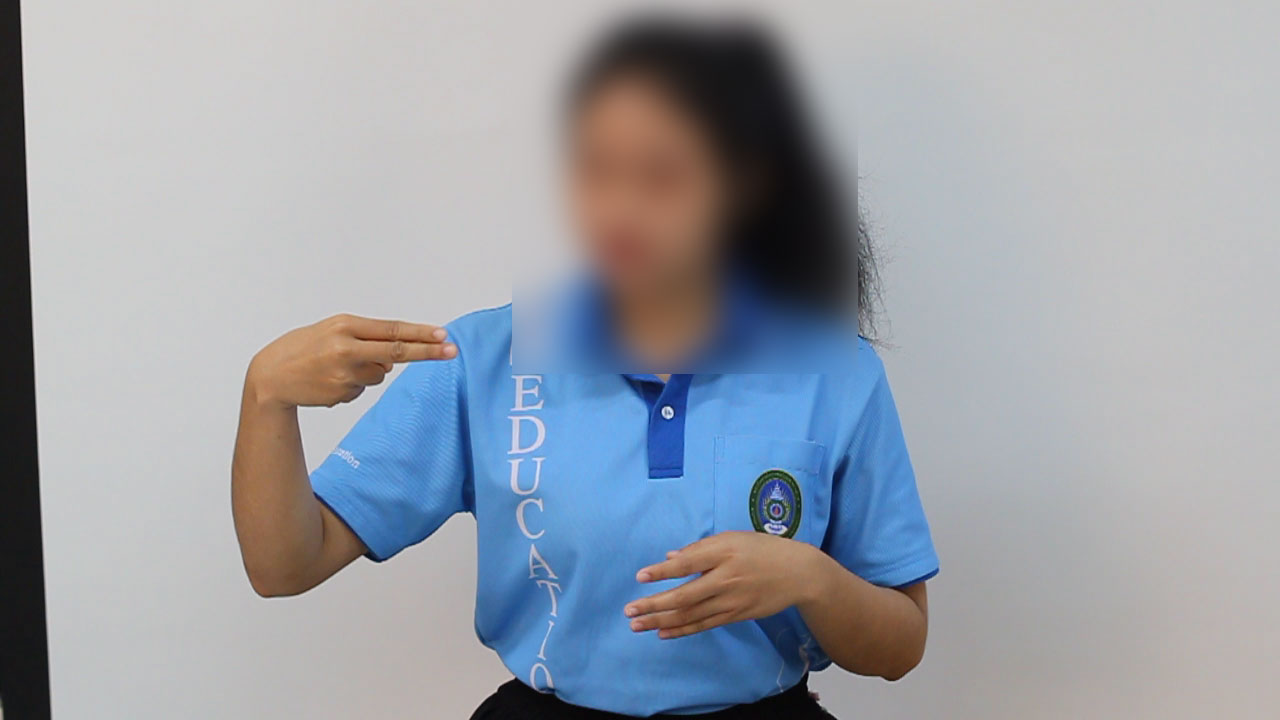hor: (231, 301, 475, 421)
